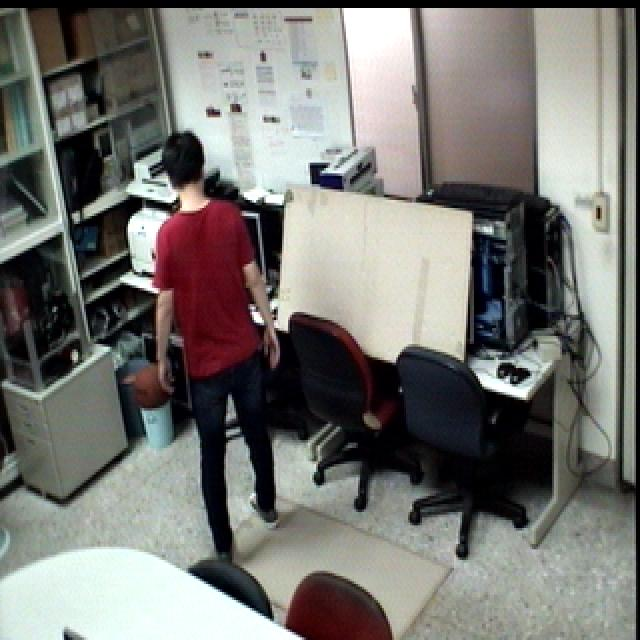stand: (145, 123, 294, 576)
